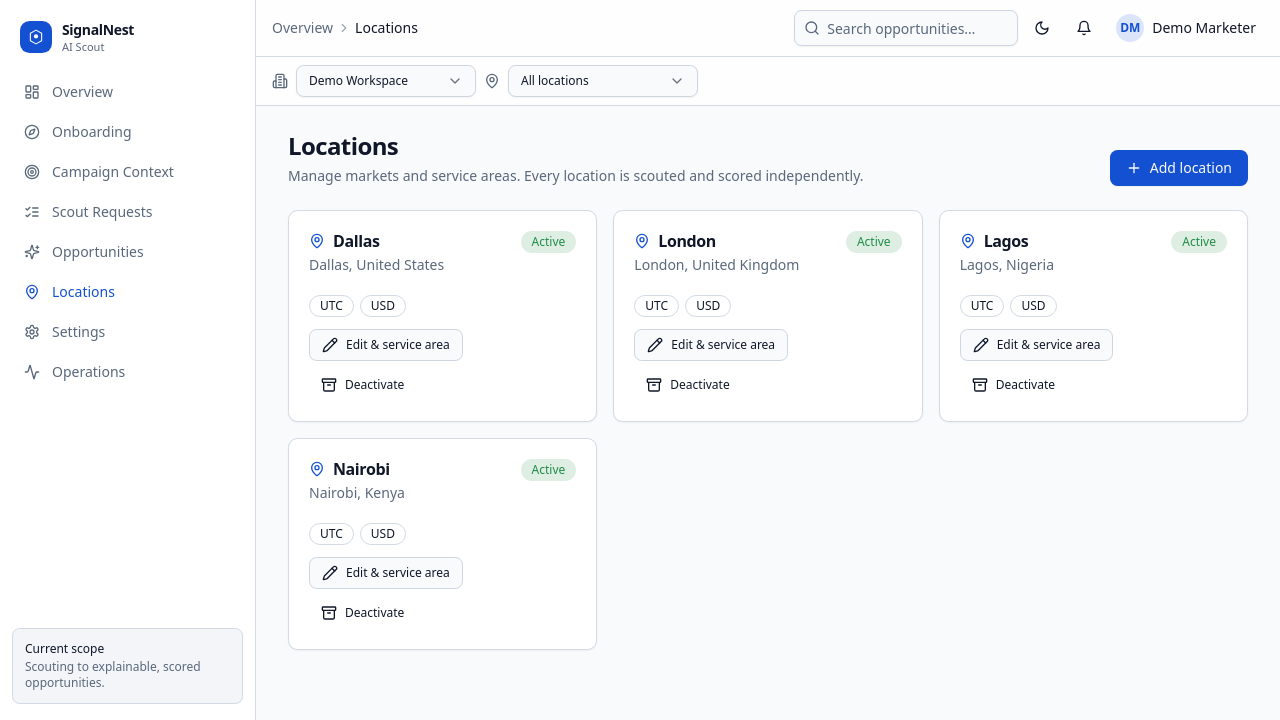
Test: geocode carries the active workspace (UI-AUDIT P2) › sends ?workspace_id= of the active workspace and fills the coordinates
This screenshot has width=1280, height=720.
Click the button "Add location".
click(1179, 168)  # box [1110,150,1248,186]
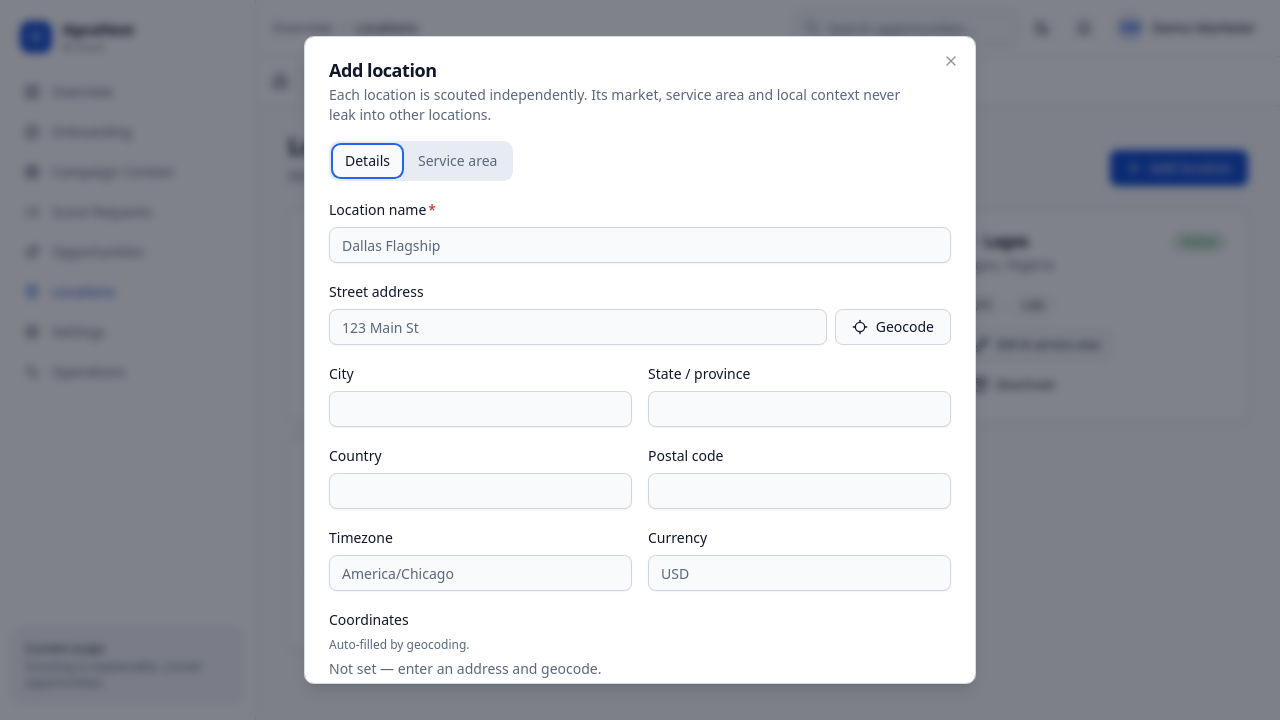
Type "Dallas" into the field labelled "Street address".
click(578, 327); type("Dallas")  # box [329,309,827,345]
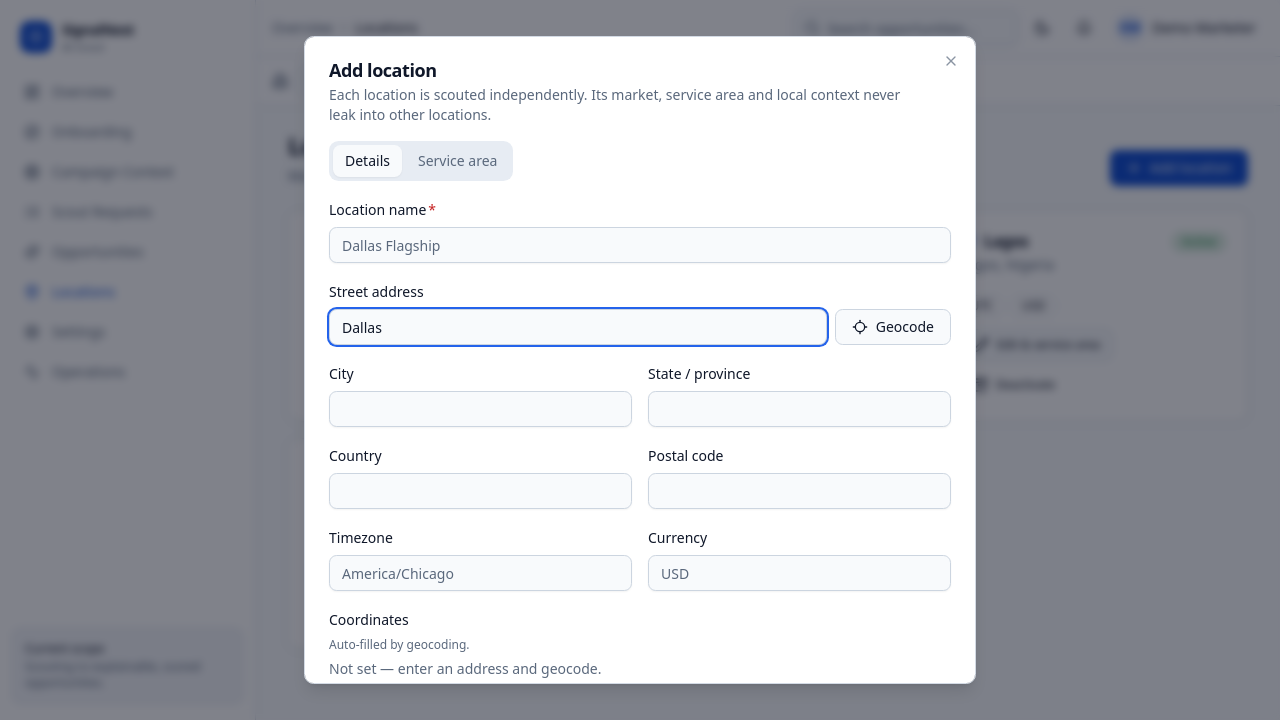
Click the button "Geocode".
click(893, 327)  # box [835,309,951,345]
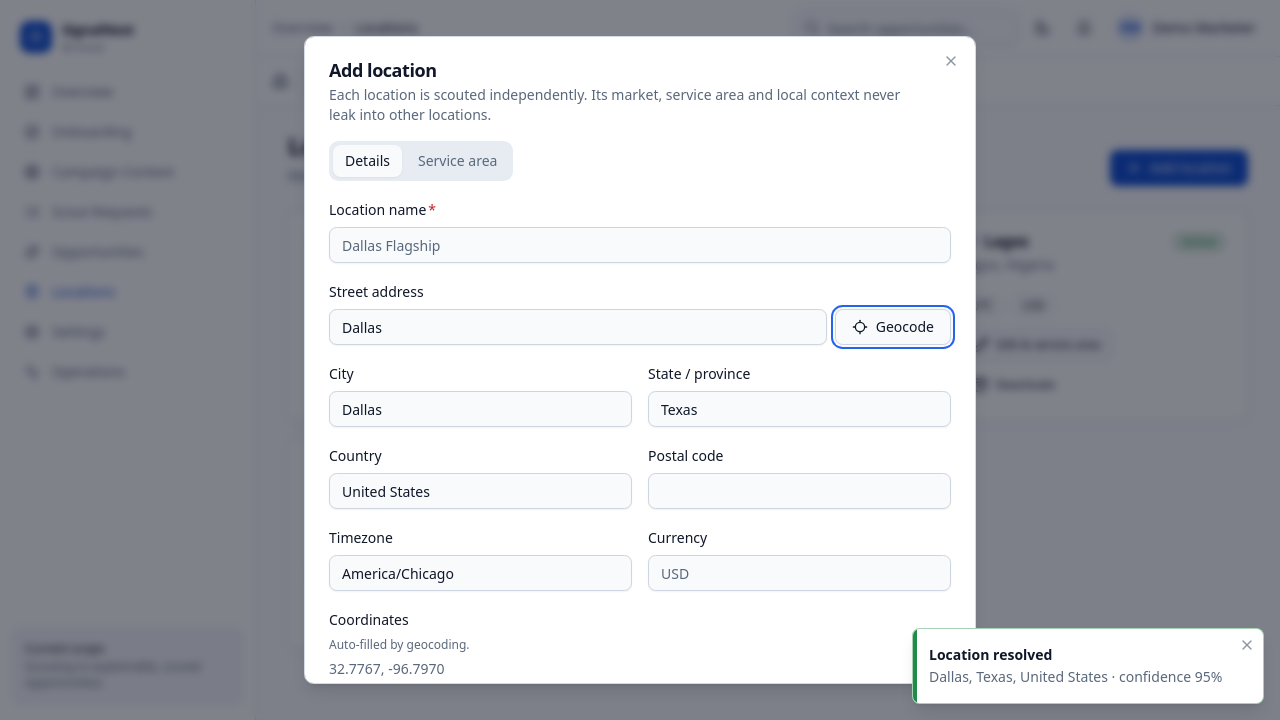
Now the text "32.7767, -96.7970" is shown, box [329,659,444,678]
